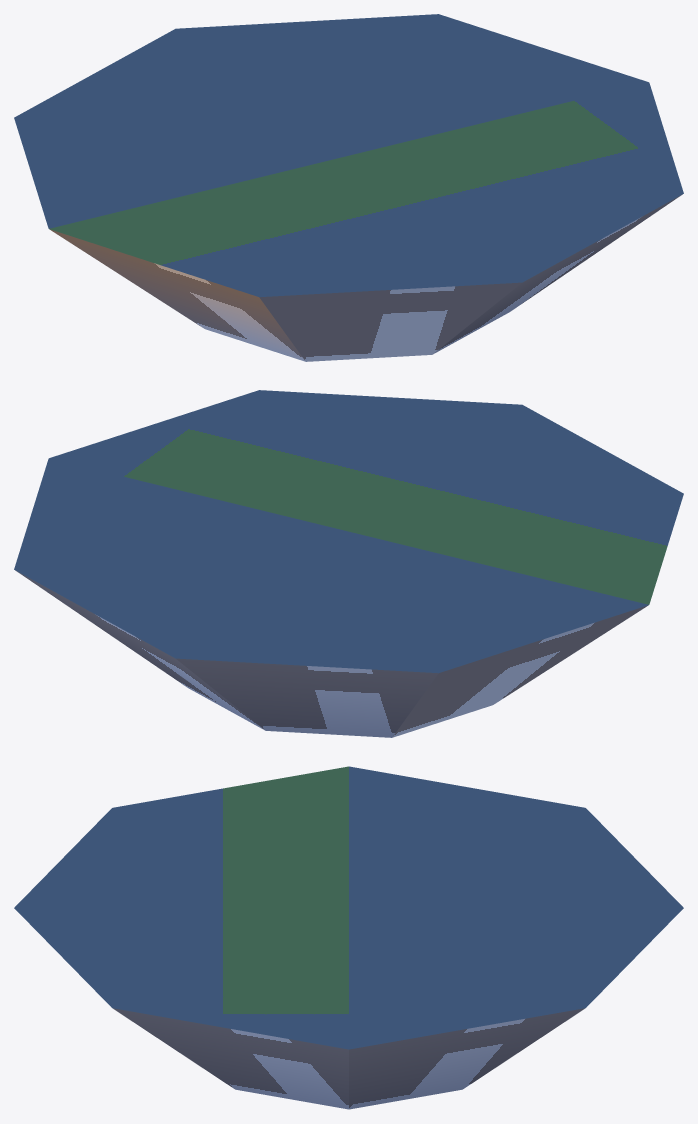
File: wprop.bucket__basin.glb
The picture shows the model from 3 angles, top to bottom: view 1: azimuth 30°, elevation 25°; view 2: azimuth 150°, elevation 25°; view 3: azimuth 270°, elevation 25°; orthographic projection. The views are drawn at different scales.
Parts seen in each view (by area): view 1: kit_basin; view 2: kit_basin; view 3: kit_basin.
Boxes of the visible parts, x1,y1,x2,y2 form: kit_basin: (14, 14, 683, 361); kit_basin: (14, 390, 683, 737); kit_basin: (14, 766, 683, 1109).
Bounding box in the file's own units: 0.5 × 0.11 × 0.5.
Materials: 3 (3 with a texture image).
